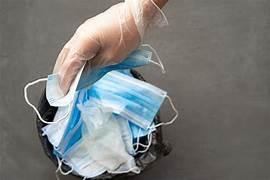Glove: (53, 0, 166, 93)
Mask: (46, 49, 151, 106), (24, 66, 107, 123), (88, 71, 166, 128), (78, 98, 133, 171), (77, 49, 151, 89), (57, 89, 86, 154), (63, 137, 105, 177), (42, 114, 69, 146), (114, 114, 134, 154)
